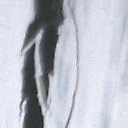crackTip: (15, 1, 78, 128)
